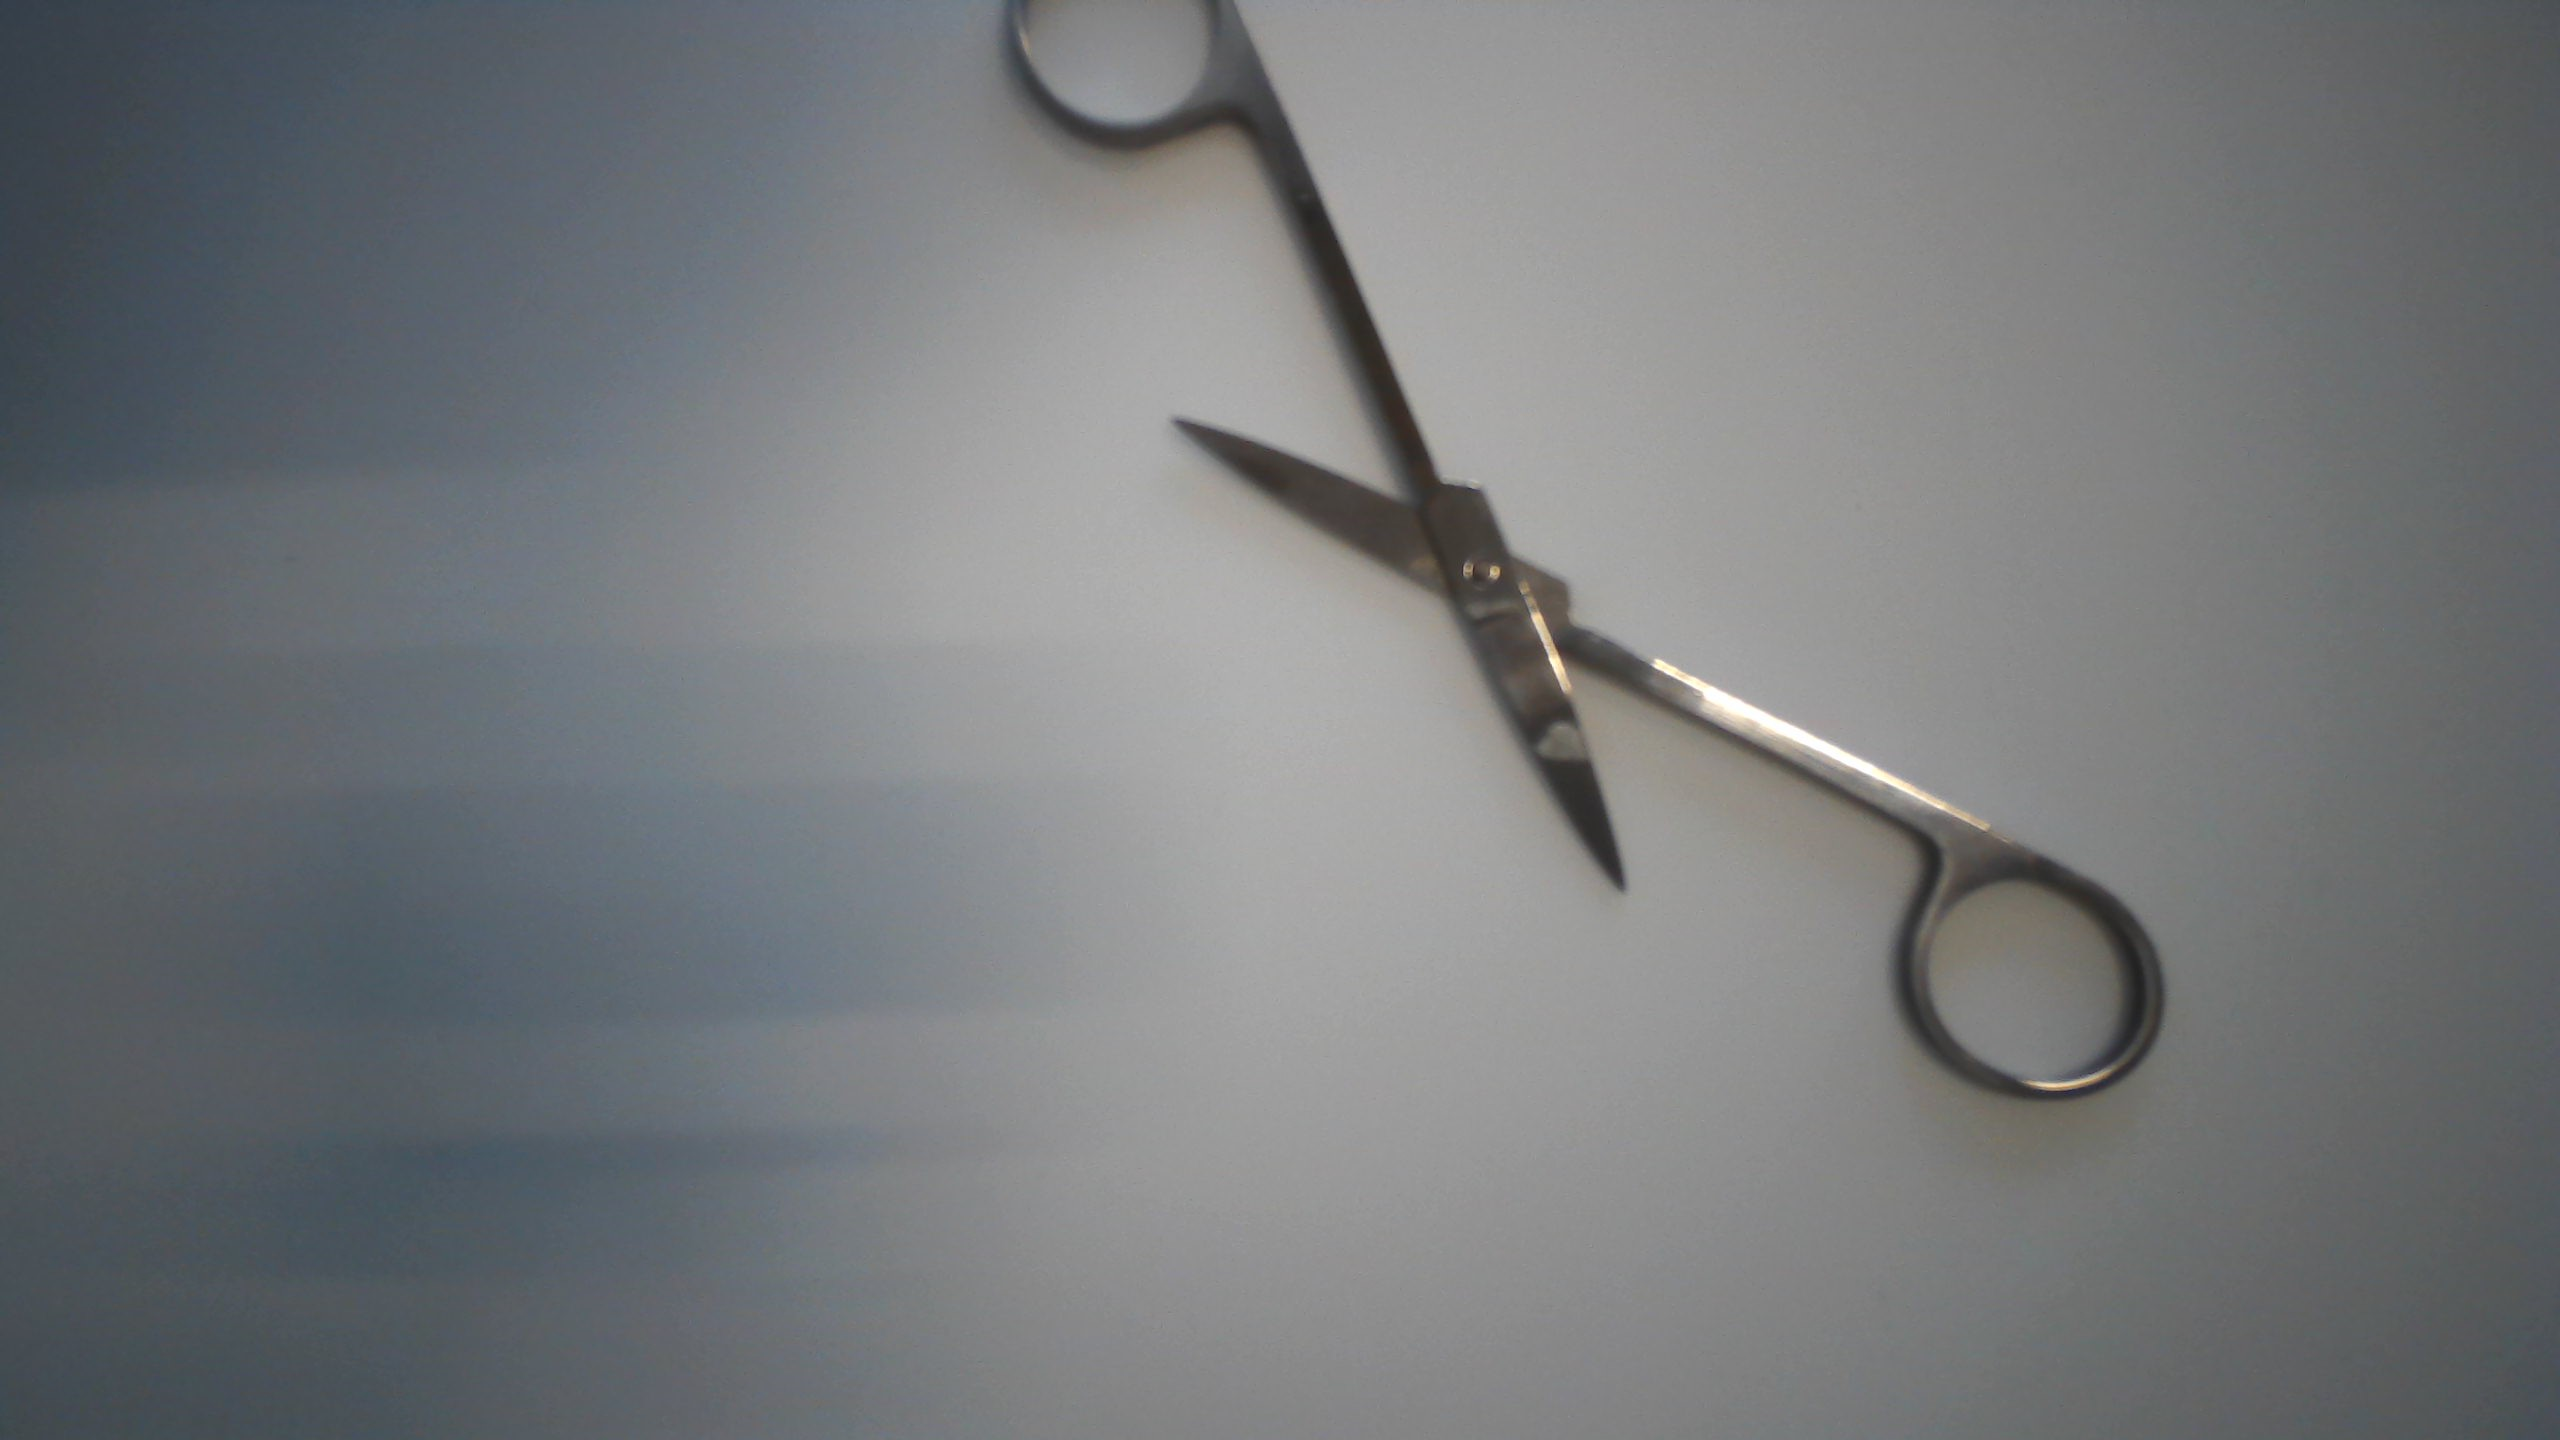Tissues: (1521, 719, 1598, 770)
